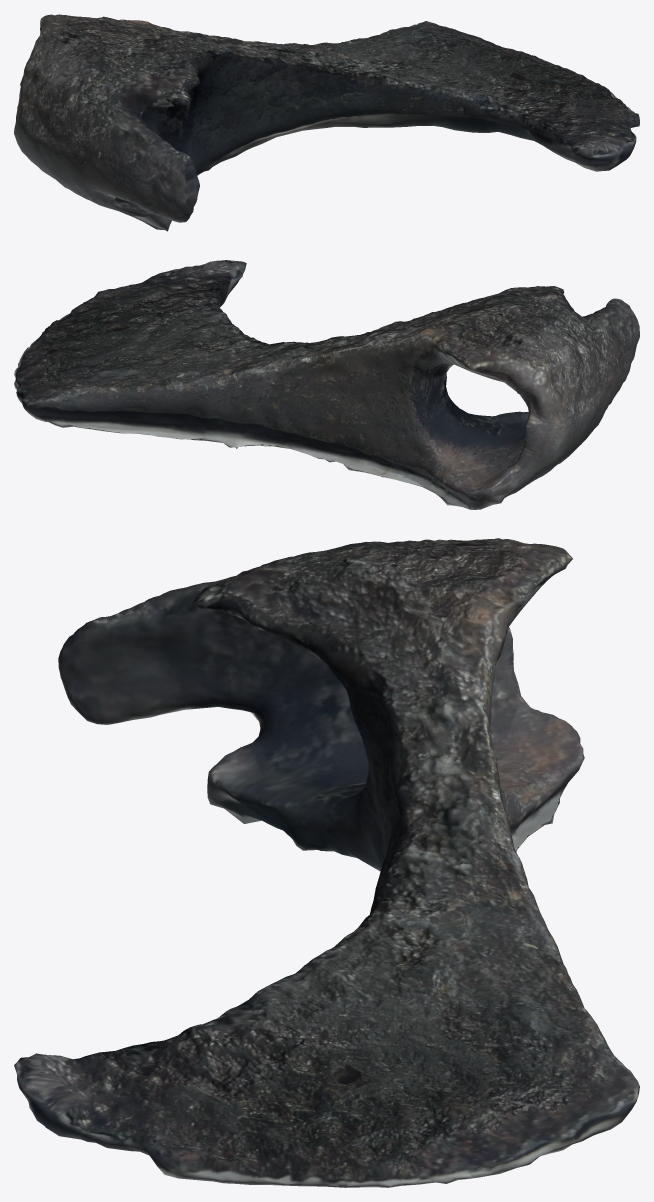
Rendered from topor1.glb.
3 views of the same model, one above another, from view 1: azimuth 30°, elevation 25°; view 2: azimuth 150°, elevation 25°; view 3: azimuth 270°, elevation 25° (orthographic). The views are drawn at different scales.
Parts seen in each view (by area): view 1: ObjectCapture; view 2: ObjectCapture; view 3: ObjectCapture.
Boxes of the visible parts, left/top/right/bottom form: ObjectCapture: left=14, top=14, right=639, bottom=231; ObjectCapture: left=14, top=260, right=639, bottom=509; ObjectCapture: left=14, top=538, right=639, bottom=1187.
Size of the model in its own units: 0.1322 by 0.0358 by 0.0779.
Materials: 1 (1 with a texture image).
